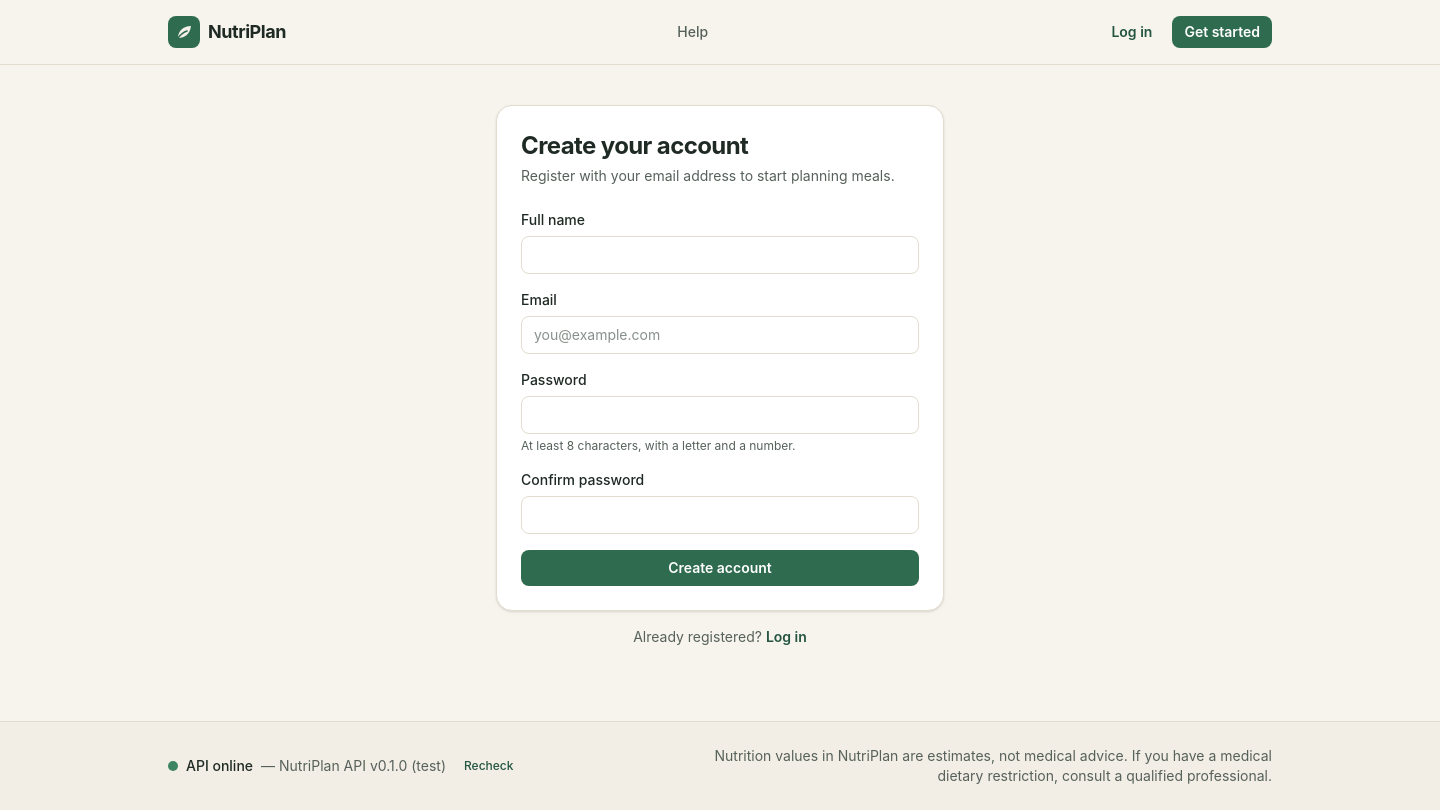
it: Register (UC-01) › registers and continues to profile setup
Type "Asha" into the field labelled "Full name" at (720,255), box left=521, top=236, right=919, bottom=274
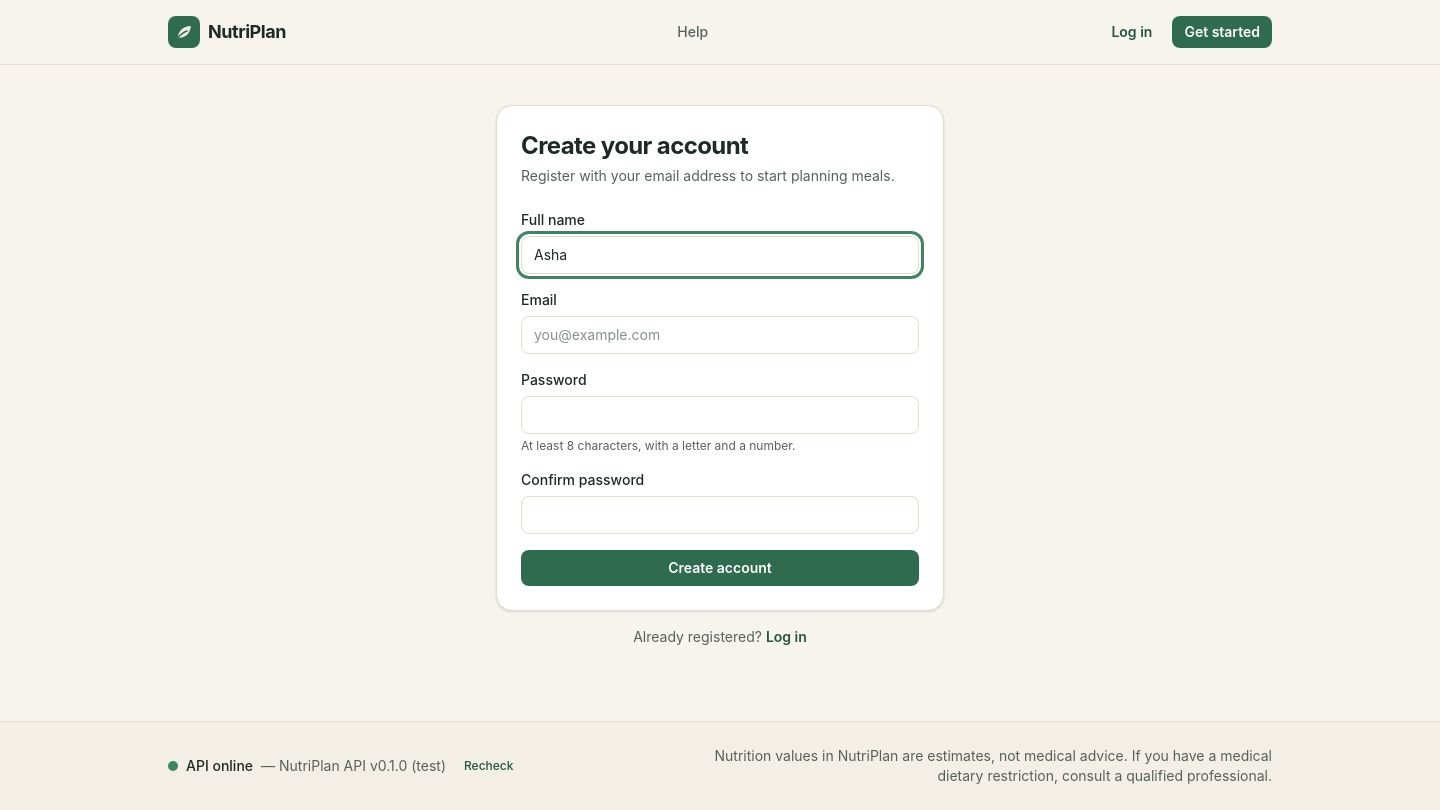
Type "asha@example.com" into the field labelled "Email" at (720,335), box left=521, top=316, right=919, bottom=354
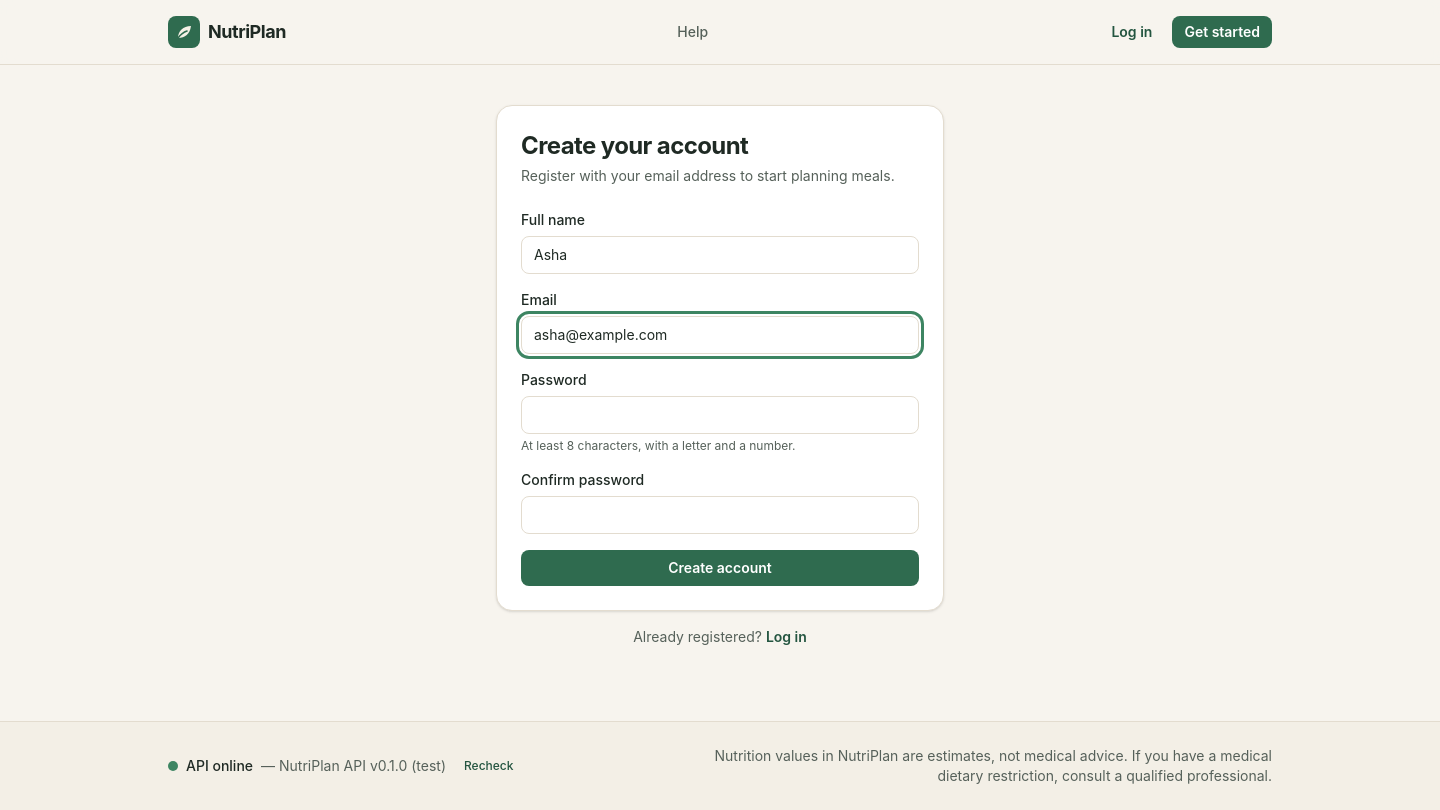
Type "Secret123" into the password field labelled "Password" at (720,415), box left=521, top=396, right=919, bottom=434
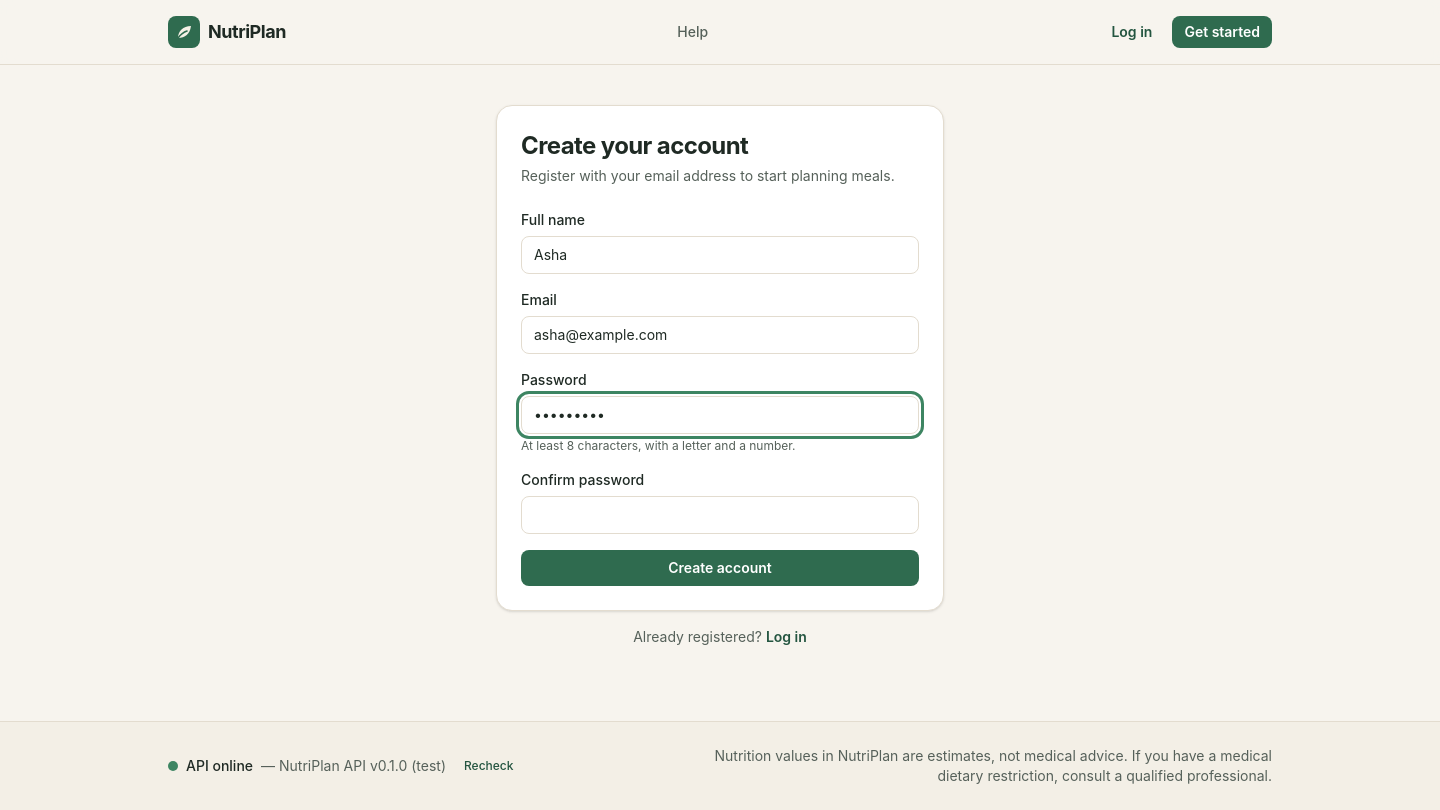
Type "Secret123" into the password field labelled "Confirm password" at (720,515), box left=521, top=496, right=919, bottom=534
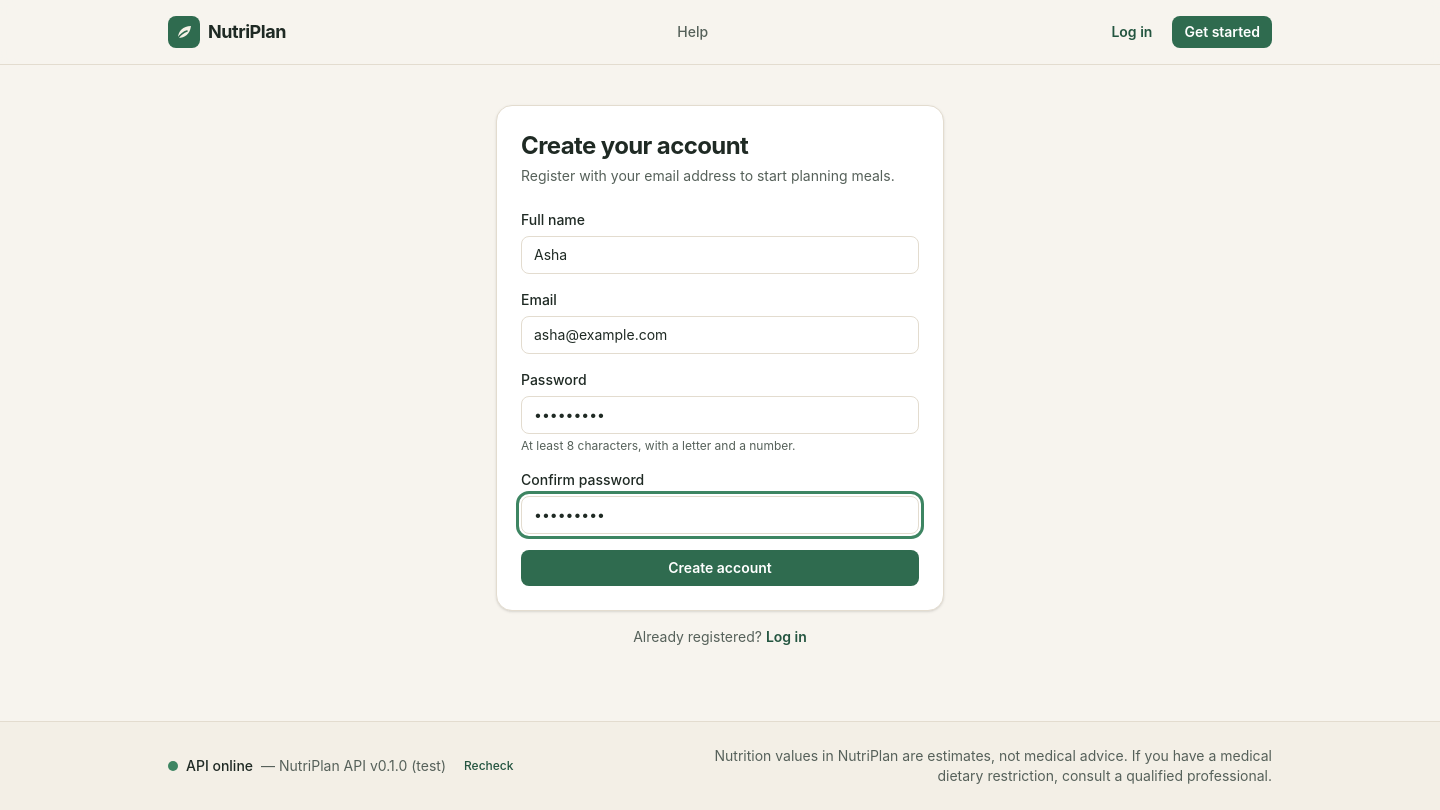
Click the button "Create account" at (720,568), box left=521, top=550, right=919, bottom=586
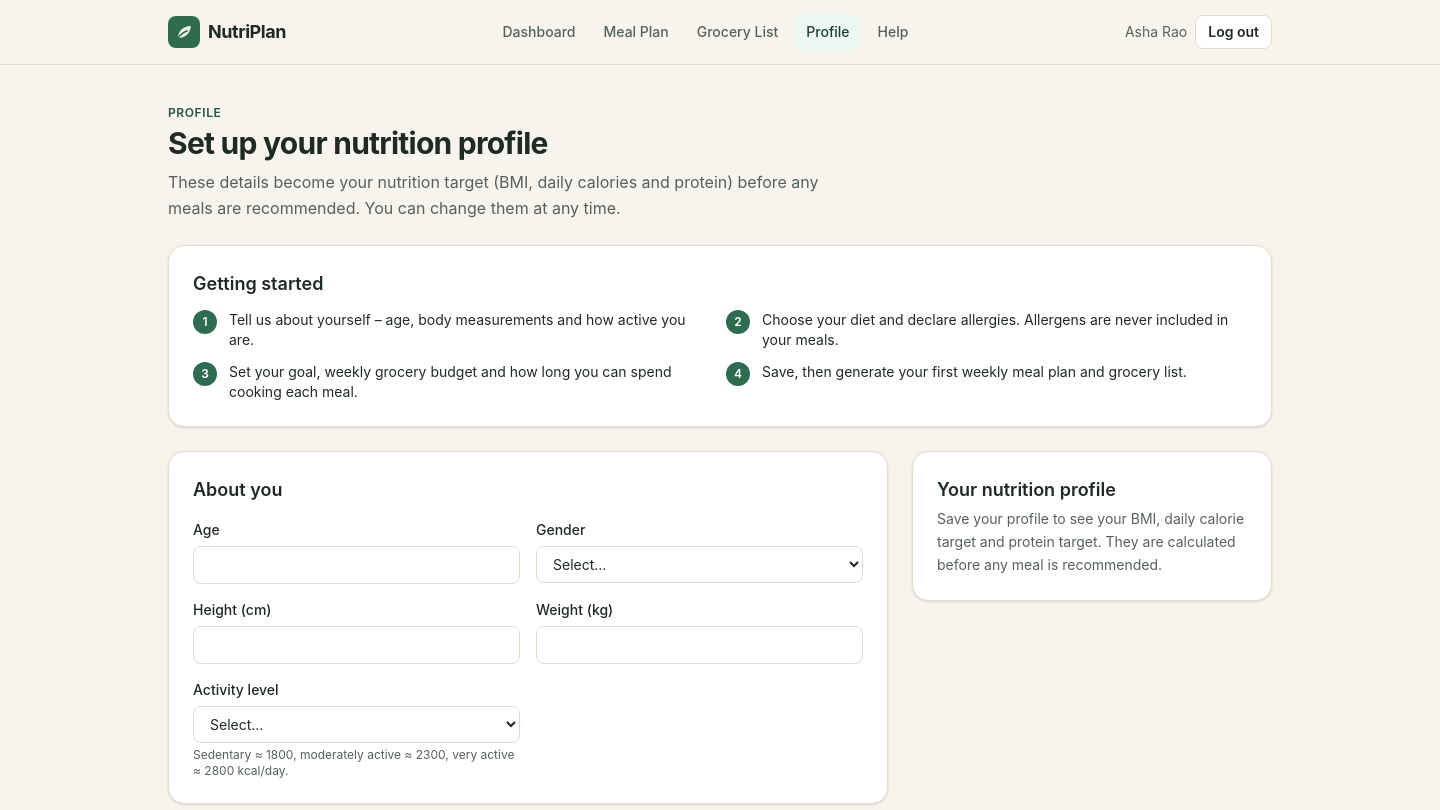
Expected: the heading "Getting started" is shown, left=193, top=273, right=323, bottom=294
